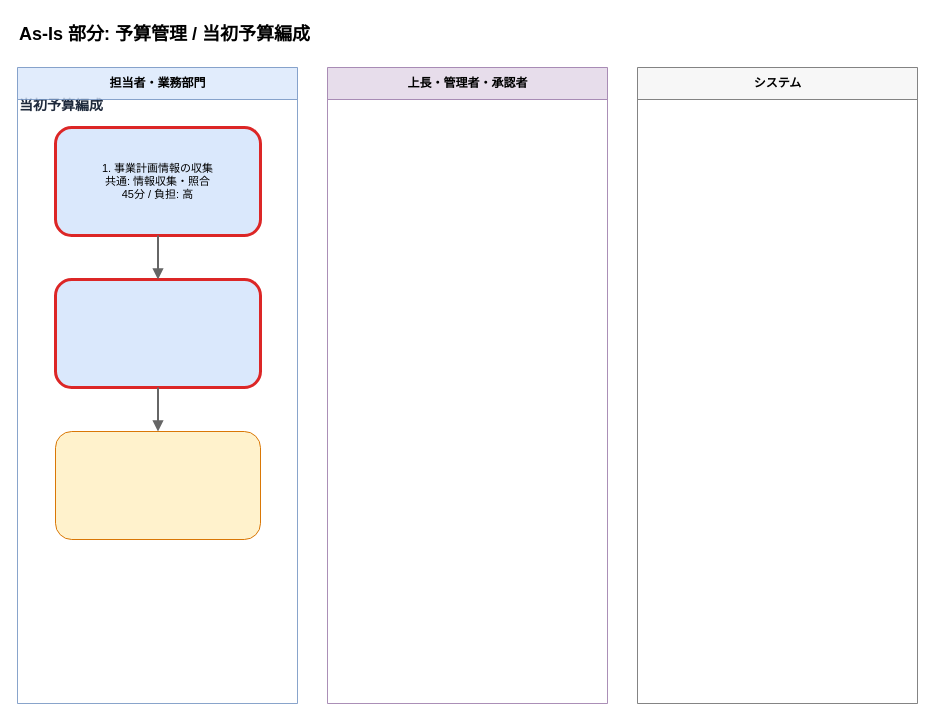
Image size: 935x721. Some labels were removed from this diagram. Here are the shapes that lost their labels. From the top down, the centre of each, then its label:
point 158,333: 2. 資金収支予算案作成 共通: 計算・作成 60分 / 負担: 高
point 157,485: 3. 理事会承認 共通: 承認・決裁 30分 / 負担: 中 【要確認】質問: 理事会提出前のレビュー者と差戻しルールを確認したい。 / 回答例: 事務長…
